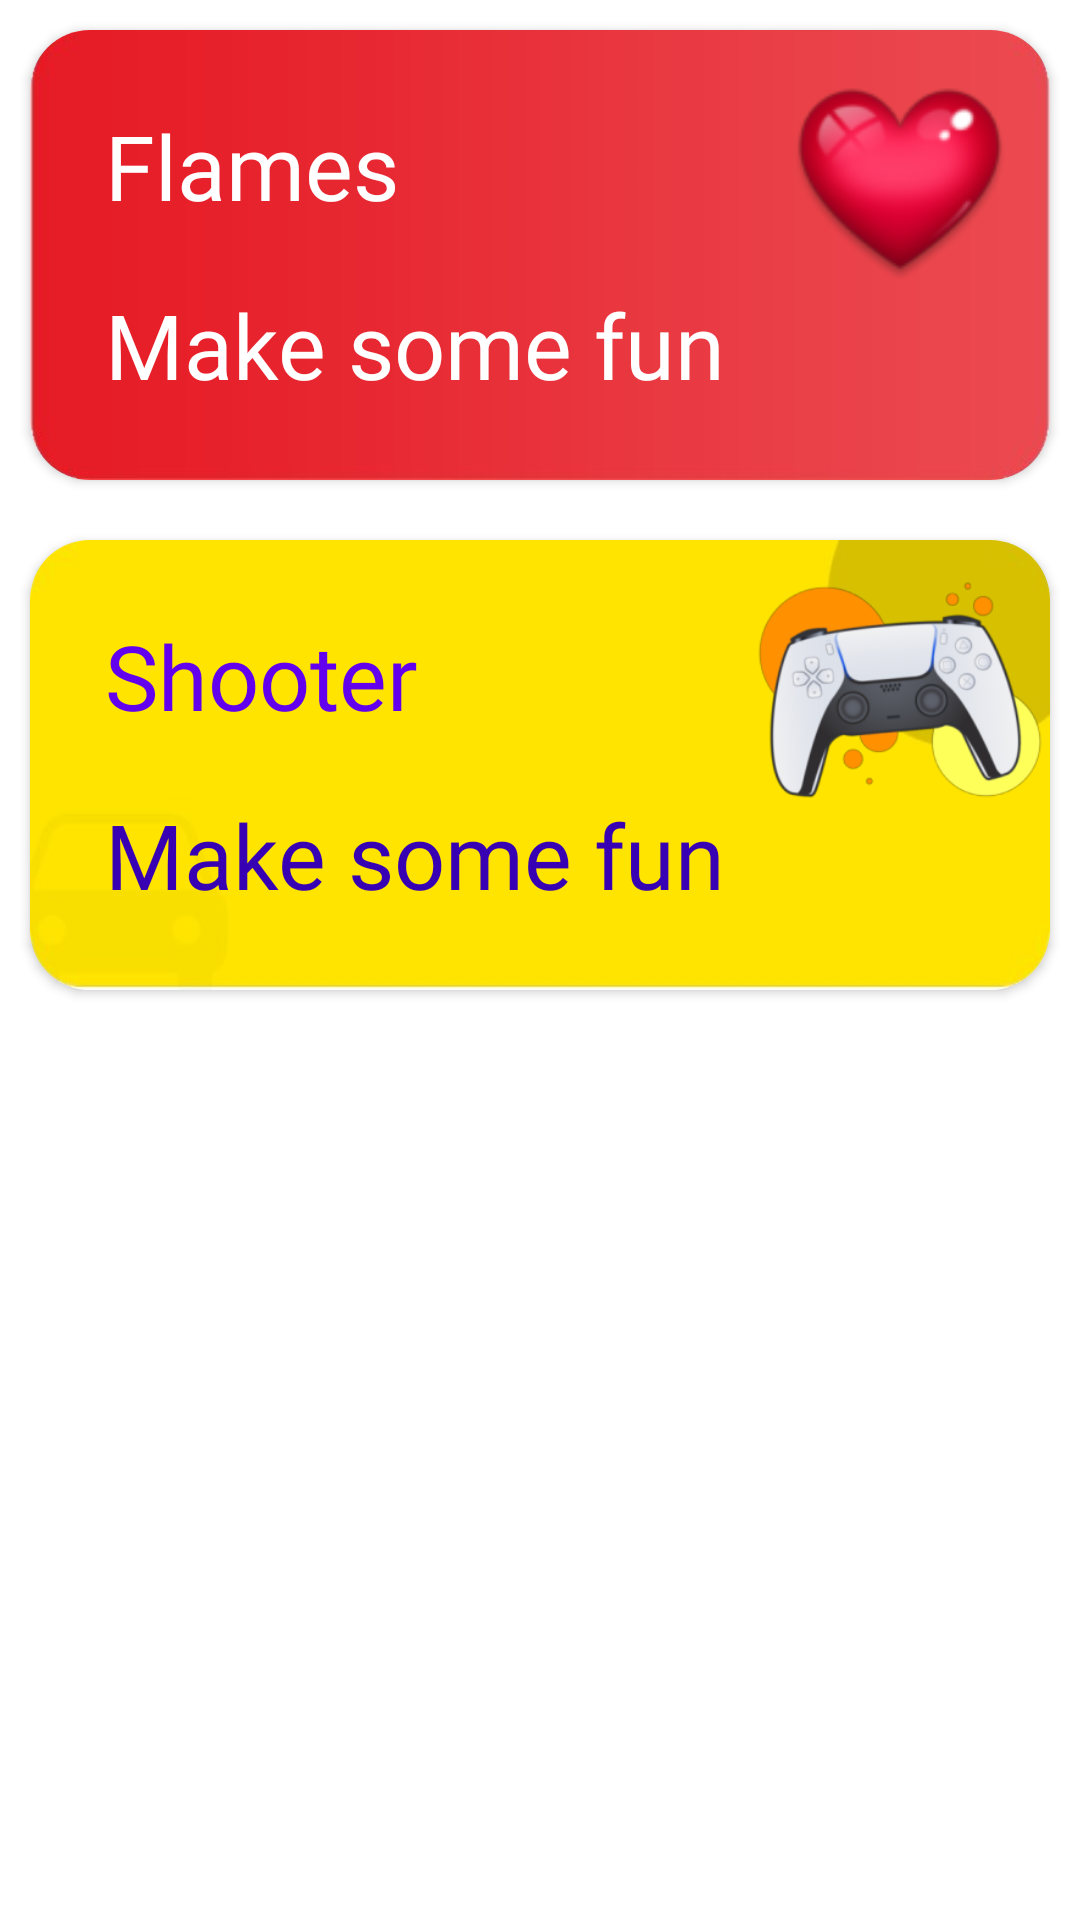

Where to tap for icons on this 1080 x 1920 app screen, as point (x, y):
heart: point (900, 180)
